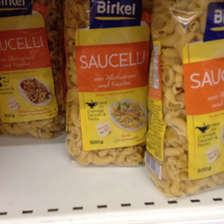pasta: (146, 1, 223, 198), (64, 1, 152, 167), (1, 1, 65, 140)
